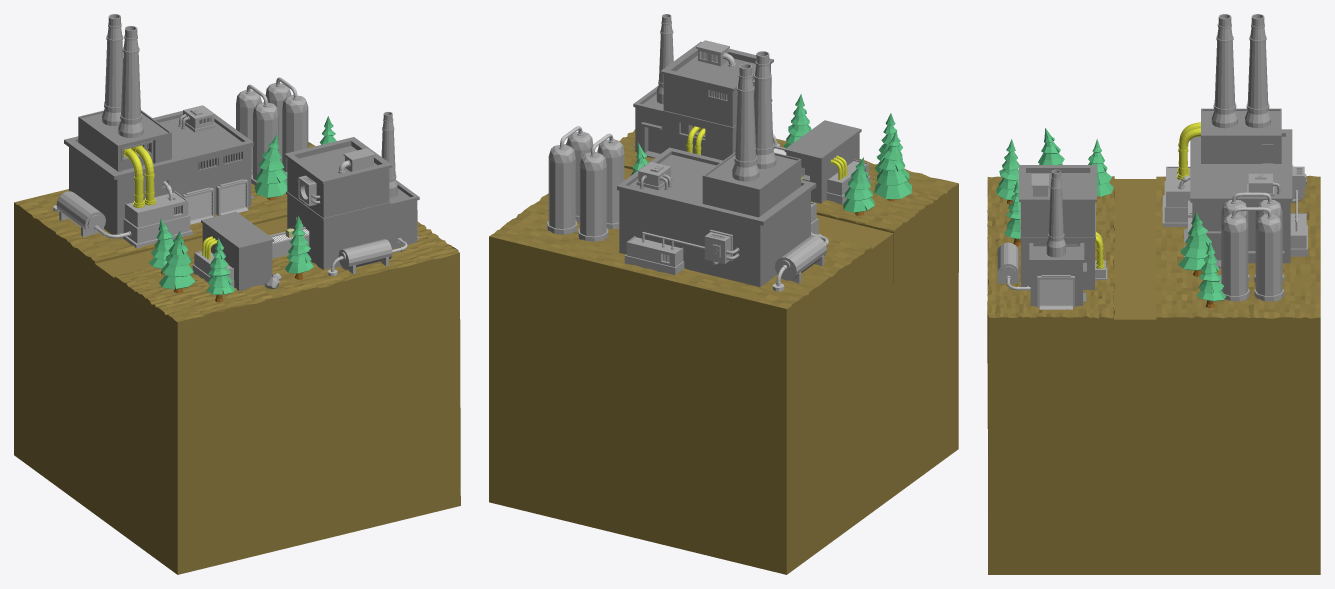
File: factorycube.glb
The picture shows the model from 3 angles, left to right: view 1: azimuth 30°, elevation 25°; view 2: azimuth 150°, elevation 25°; view 3: azimuth 270°, elevation 25°; orthographic projection. The views are drawn at different scales.
Visible parts, largest first — view 1: Plane.002, Cube.012, Cube.023, Cube.033, Cube.011, Cube.010, Cylinder.031, Cylinder.022, Cube.024, Icosphere.019, Icosphere.018, Cylinder.021 (+7 smaller); view 2: Plane.002, Cube.012, Cube.023, Cube.011, Cube.033, Icosphere.017, Icosphere.006, Cylinder.022, Cylinder.031, Cube.024, Cube.022, Icosphere.018 (+7 smaller); view 3: Plane.002, Cube.012, Cube.023, Cube.011, Icosphere.017, Icosphere.019, Cylinder.031, Cylinder.022, Cube.024, Cube.010, Cylinder.064, Cylinder.030 (+5 smaller).
Part boxes in pixels (box(x1,y1,x2,y2)): Plane.002: box(14, 142, 460, 574); Cube.012: box(64, 105, 254, 238); Cube.023: box(284, 137, 392, 269); Cube.033: box(201, 211, 274, 291); Cube.011: box(78, 110, 171, 171); Cube.010: box(122, 191, 192, 248); Cylinder.031: box(118, 26, 143, 137); Cylinder.022: box(102, 14, 123, 125); Cube.024: box(389, 180, 419, 249); Icosphere.019: box(282, 95, 308, 171); Icosphere.018: box(251, 102, 278, 185); Cylinder.021: box(56, 191, 105, 234); Plane.002: box(489, 129, 958, 574); Cube.012: box(617, 147, 816, 287); Cube.023: box(660, 41, 773, 160); Cube.011: box(702, 152, 801, 217); Cube.033: box(784, 120, 861, 203); Icosphere.017: box(547, 144, 577, 234); Icosphere.006: box(578, 151, 608, 241); Cylinder.022: box(732, 63, 759, 181); Cylinder.031: box(754, 51, 776, 168); Cube.024: box(633, 86, 663, 158); Cube.022: box(624, 236, 684, 275); Icosphere.018: box(597, 139, 624, 229); Plane.002: box(987, 175, 1320, 574); Cube.012: box(1190, 129, 1292, 268); Cube.023: box(1019, 165, 1096, 289); Cube.011: box(1201, 108, 1281, 163); Icosphere.017: box(1254, 214, 1284, 301); Icosphere.019: box(1221, 214, 1249, 301); Cylinder.031: box(1211, 14, 1237, 128); Cylinder.022: box(1245, 14, 1270, 128); Cube.024: box(1029, 243, 1086, 306); Cube.010: box(1162, 166, 1190, 227); Cylinder.064: box(1046, 169, 1065, 257); Cylinder.030: box(997, 242, 1018, 282).
Bounding box in the file's own units: 25.69 × 38.19 × 25.53.
